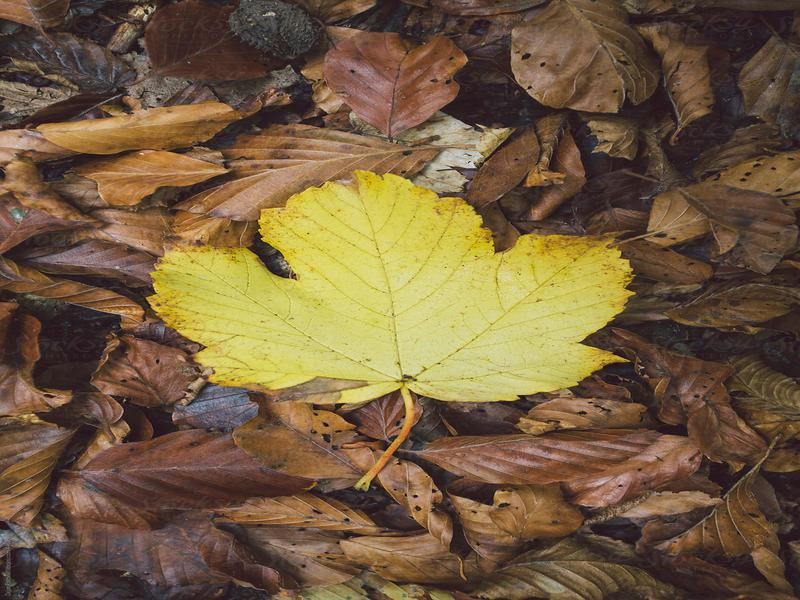leaf: (146, 169, 637, 485), (505, 4, 671, 124), (319, 20, 469, 140), (400, 429, 663, 488), (29, 100, 262, 157), (227, 402, 377, 482), (208, 492, 397, 544)
